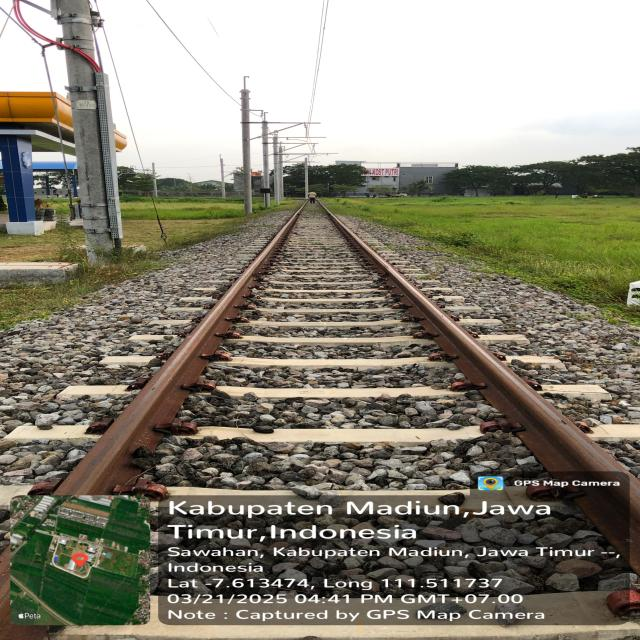rail-detection: (330, 214, 640, 574), (58, 215, 296, 494)
